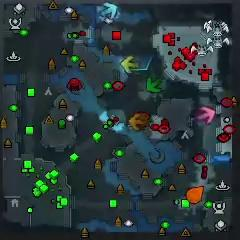p5: (186, 185, 204, 205)
x1: (197, 106, 216, 123)
x2: (121, 56, 137, 74)
x3: (100, 2, 118, 19)
x4: (145, 75, 162, 94)
x5: (129, 114, 146, 131)
